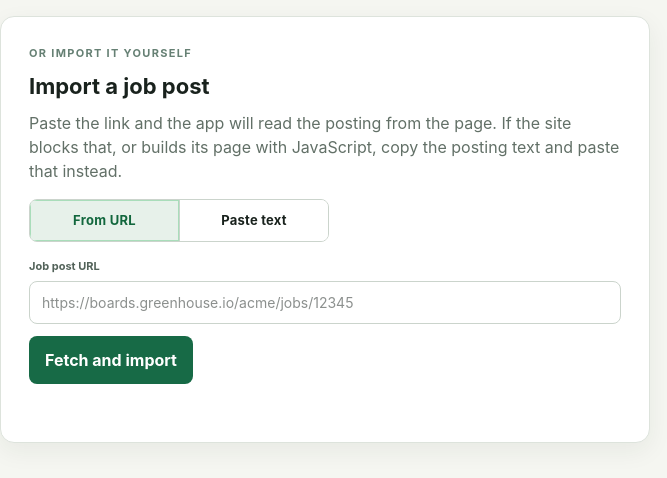
Test: manual job import › disables the form while an import is in flight
The image size is (667, 478).
In the field labelled "Job post URL": (325, 302) [29,280,621,324], type "https://jobs.example.com/1"
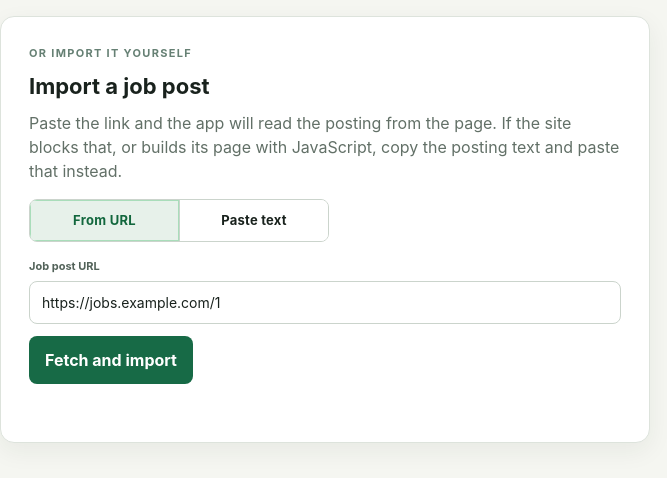
Click the button "Fetch and import": click(111, 360) [29,336,193,384]
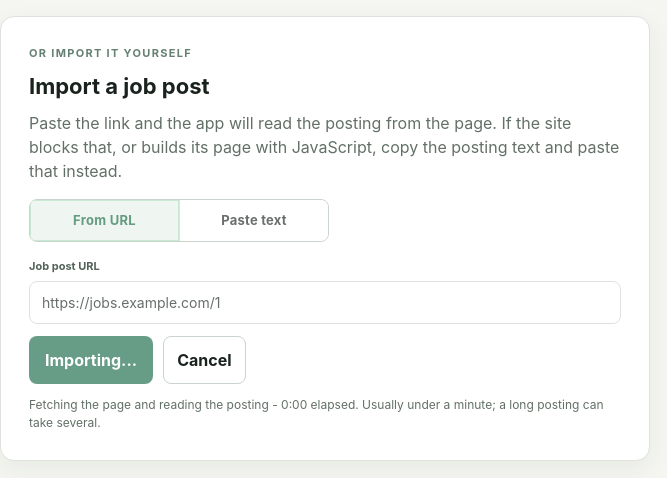
expect the button "Importing..." is disabled: met, box [29,336,153,384]
expect the field labelled "Job post URL" is disabled: met, box [29,280,621,324]
expect the button "Paste text" is disabled: met, box [179,200,328,241]
